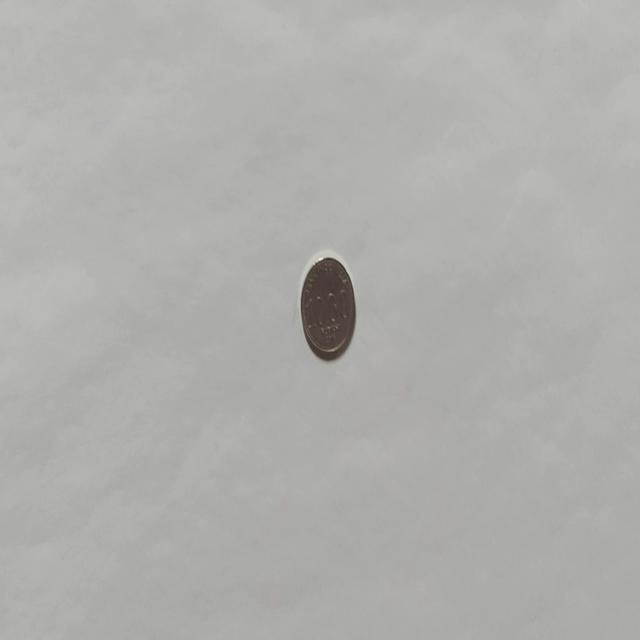seribu rupiah koin: (298, 251, 356, 361)
